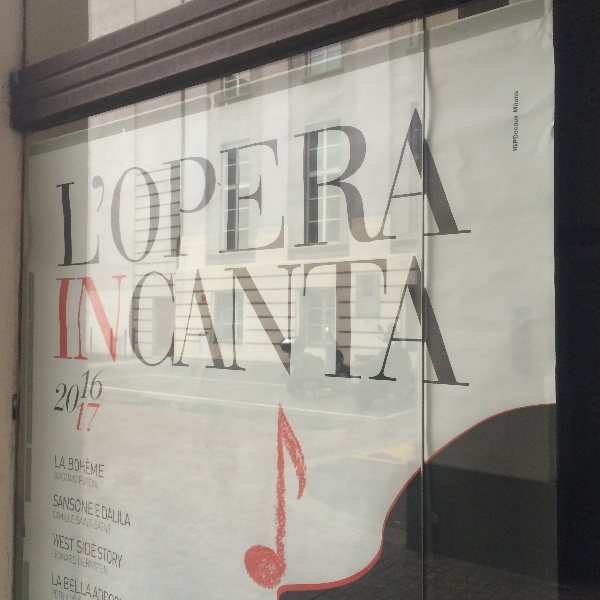text: (65, 105, 80, 270), (81, 105, 96, 270), (97, 105, 112, 270), (113, 105, 128, 270), (129, 105, 144, 270), (145, 105, 160, 270), (161, 105, 176, 270), (177, 105, 192, 270), (193, 105, 208, 270), (209, 105, 224, 270), (225, 105, 240, 270), (241, 105, 256, 270), (257, 105, 272, 270), (273, 105, 288, 270), (289, 105, 304, 270), (305, 105, 320, 270), (321, 105, 336, 270), (337, 105, 352, 270), (353, 105, 368, 270), (369, 105, 384, 270), (385, 105, 400, 270), (401, 105, 416, 270), (417, 105, 432, 270), (433, 105, 448, 270), (449, 105, 464, 270), (65, 256, 80, 389), (81, 256, 96, 389), (97, 256, 112, 389), (113, 256, 128, 389), (129, 256, 144, 389), (145, 256, 160, 389), (161, 256, 176, 389), (177, 256, 192, 389), (193, 256, 208, 389), (209, 256, 224, 389), (225, 256, 240, 389), (241, 256, 256, 389), (257, 256, 272, 389), (273, 256, 288, 389), (289, 256, 304, 389), (305, 256, 320, 389), (321, 256, 336, 389), (337, 256, 352, 389), (353, 256, 368, 389), (369, 256, 384, 389), (385, 256, 400, 389), (401, 256, 416, 389), (417, 256, 432, 389), (433, 256, 448, 389), (449, 256, 464, 389), (465, 105, 476, 270), (56, 105, 64, 270), (465, 256, 474, 389), (56, 256, 64, 389), (65, 381, 81, 416), (81, 402, 96, 436), (514, 115, 528, 151), (83, 369, 96, 403), (97, 369, 110, 403), (65, 493, 80, 517), (113, 505, 128, 529), (65, 576, 80, 600), (97, 515, 113, 536), (514, 90, 528, 113), (81, 457, 96, 478), (81, 515, 96, 536), (81, 539, 96, 560), (81, 557, 96, 578), (81, 493, 94, 517), (99, 546, 112, 569), (56, 381, 64, 416), (81, 576, 92, 600), (113, 546, 124, 569), (81, 476, 96, 492), (54, 493, 64, 517), (102, 505, 112, 529), (65, 549, 78, 567), (69, 457, 80, 478), (97, 557, 108, 578), (53, 533, 64, 553), (65, 533, 76, 553), (52, 572, 64, 590), (53, 549, 64, 567), (97, 587, 112, 600), (65, 471, 78, 485), (65, 588, 80, 600), (65, 510, 76, 526), (97, 457, 105, 478), (54, 510, 64, 526), (52, 588, 64, 600), (97, 402, 101, 436), (55, 455, 64, 470), (55, 471, 64, 485), (113, 587, 122, 600), (77, 402, 80, 436), (129, 505, 132, 529), (97, 503, 101, 519), (77, 515, 80, 536), (77, 539, 80, 560), (97, 476, 100, 492), (97, 539, 98, 560), (79, 557, 80, 578), (79, 476, 80, 492), (65, 455, 66, 470), (95, 587, 96, 600), (81, 588, 82, 600)
